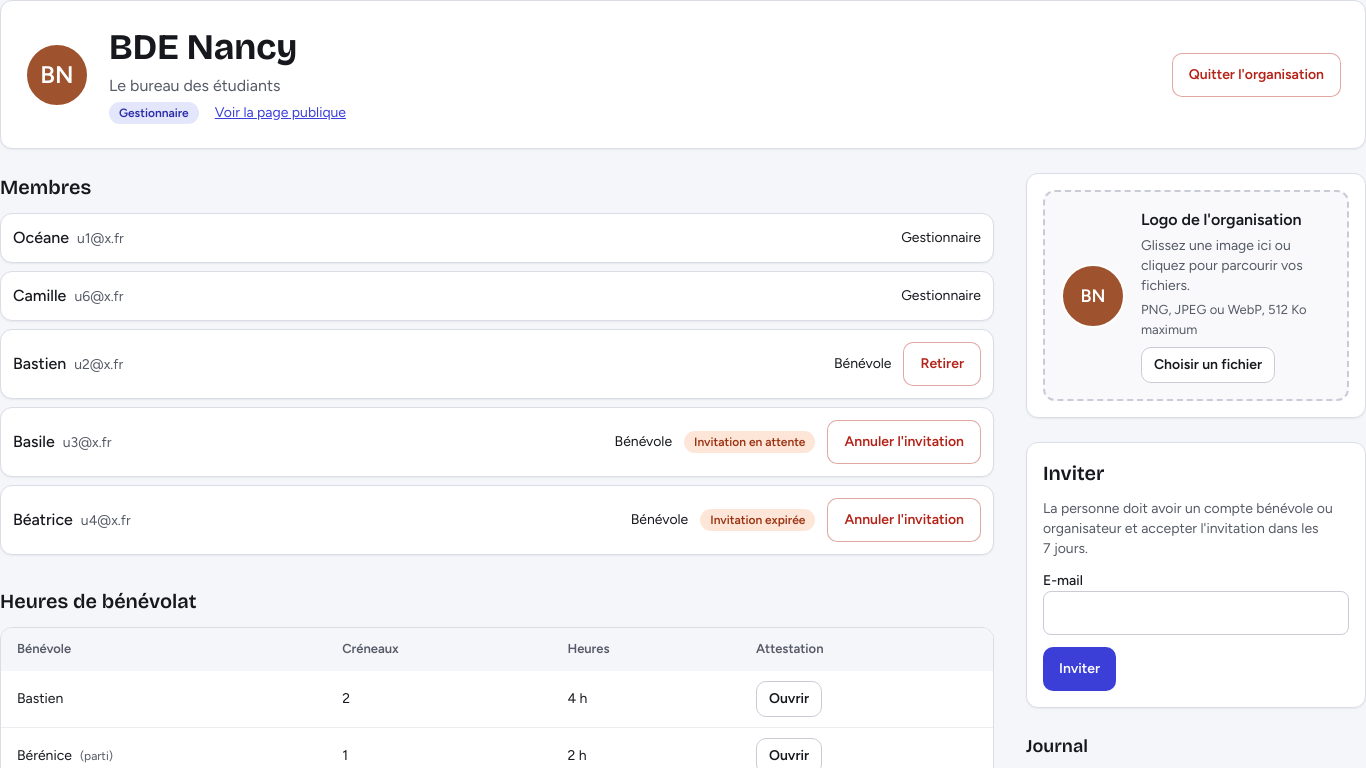
Scenario: OrganizationDetailView › translates the refusal for the last manager
Expected: the heading "BDE Nancy" is shown, [109, 26, 297, 69]
What coordinates should you click on to do the following:
click the button "Quitter l'organisation"
I would click on:
 (1256, 74)
Its box is [1172, 52, 1341, 96].
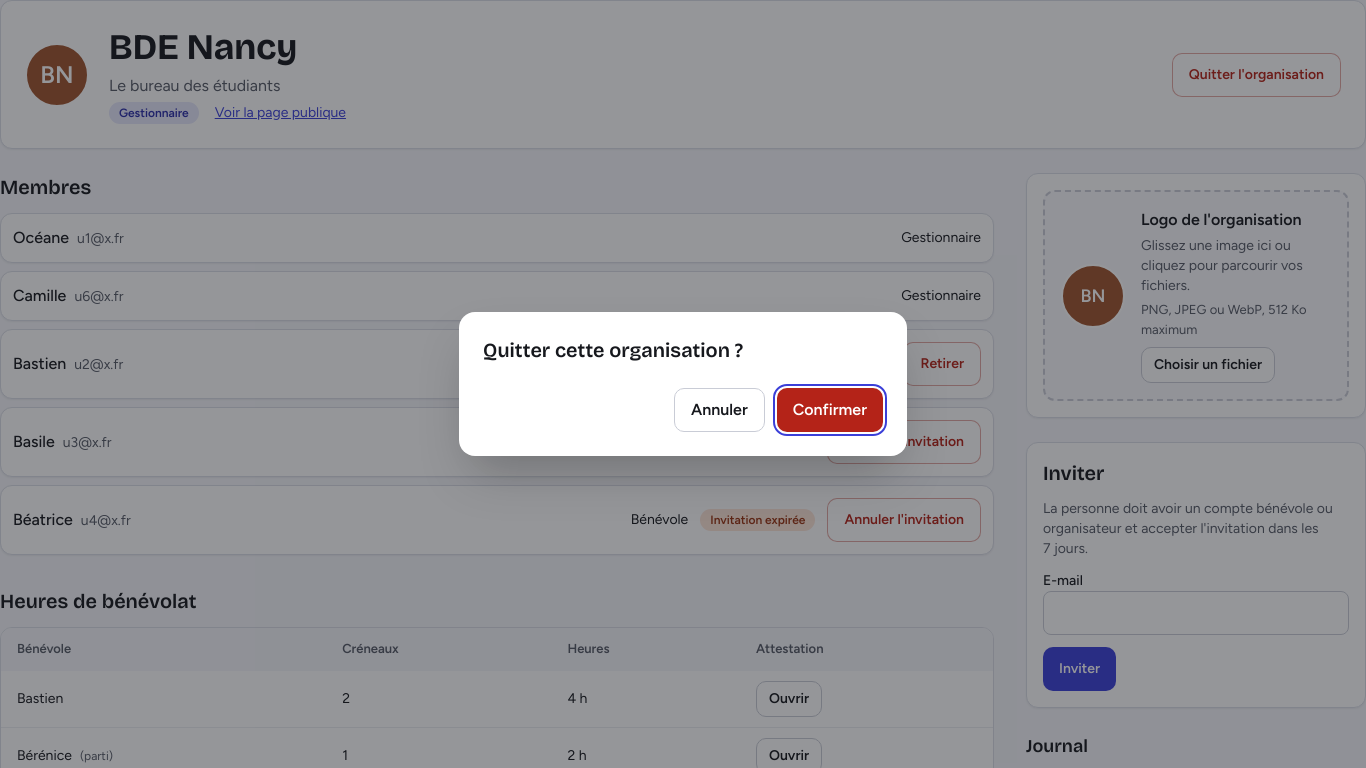
What coordinates should you click on to do the following:
click the button "Confirmer"
I would click on:
 (830, 410)
Its box is [777, 388, 883, 432].
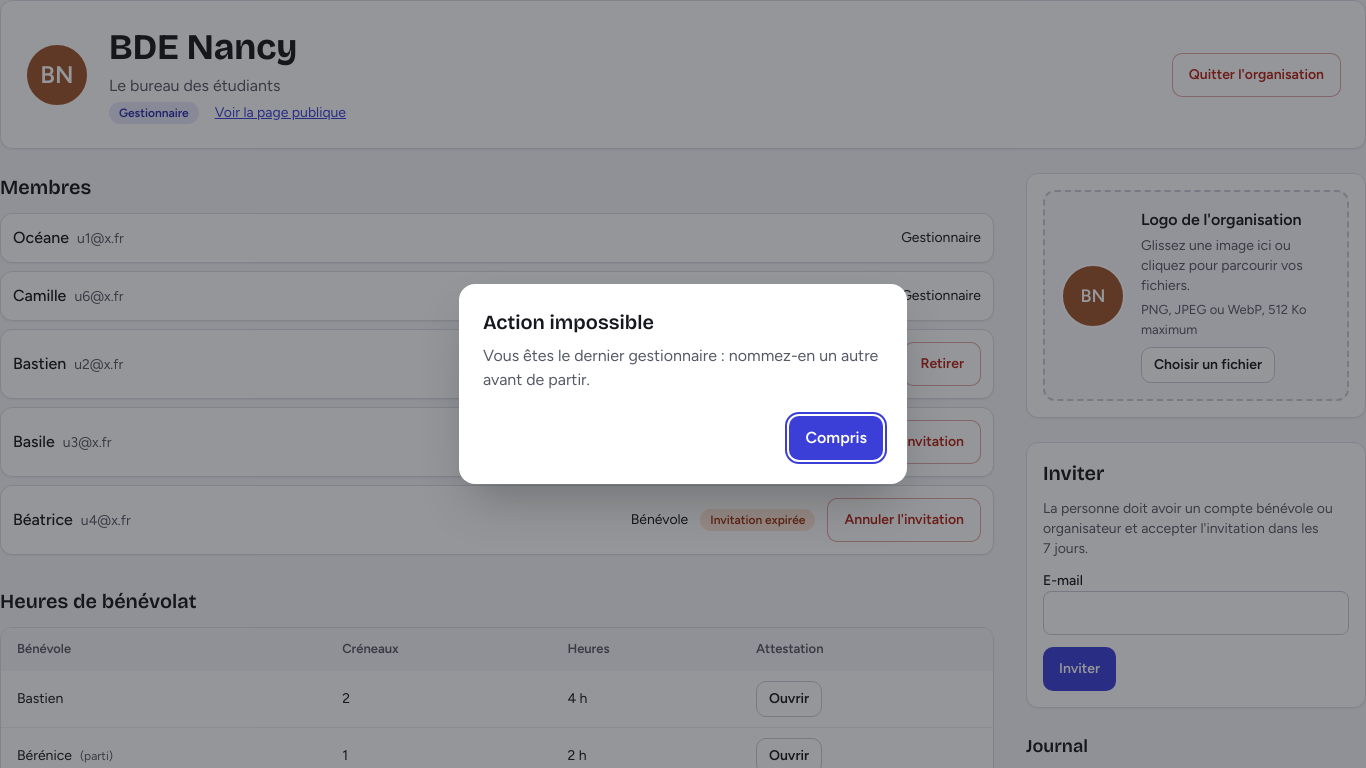
Expected: the heading "BDE Nancy" is shown, [109, 26, 297, 69]
Result: the dialog shows "dernier gestionnaire" at [483, 346, 878, 389]
